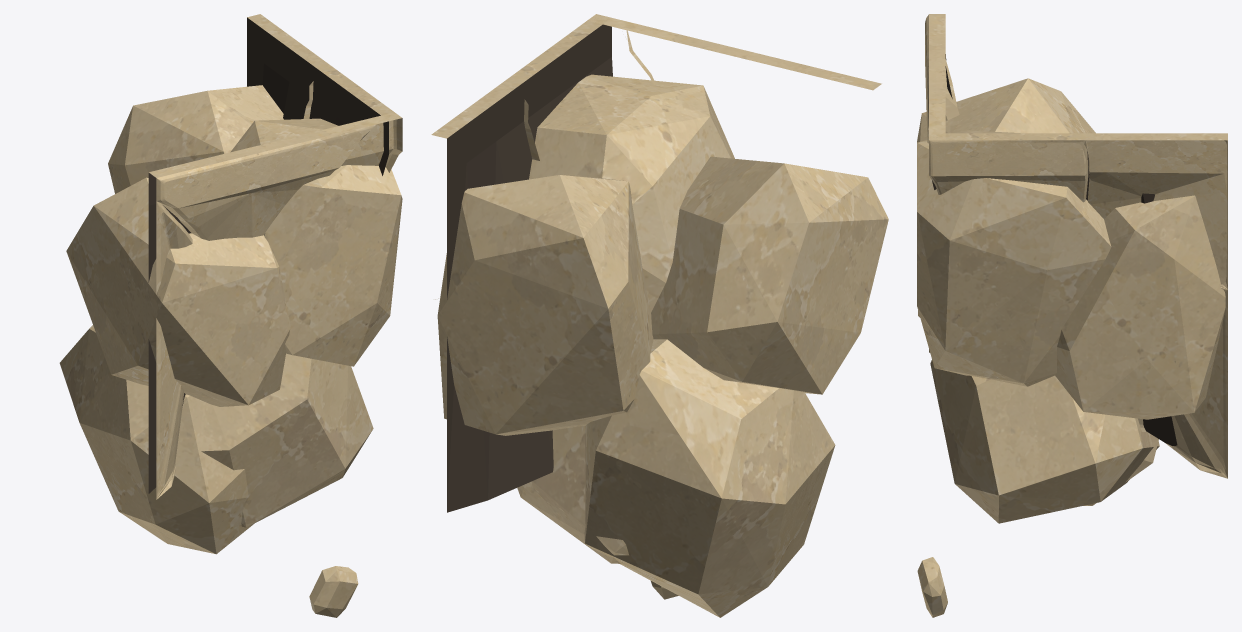
The model's file is ground_bottom_corner_01.glb.
3 renders of one model, left to right at view 1: azimuth 30°, elevation 25°; view 2: azimuth 150°, elevation 25°; view 3: azimuth 270°, elevation 25°, orthographic. The views are drawn at different scales.
Parts seen in each view (by area): view 1: GroundBottomCorner01_Body; view 2: GroundBottomCorner01_Body; view 3: GroundBottomCorner01_Body.
Part boxes in pixels (x1,y1,x2,y2): GroundBottomCorner01_Body: (59,14,402,617); GroundBottomCorner01_Body: (431,14,888,617); GroundBottomCorner01_Body: (917,14,1227,617).
Bounding box in the file's own units: 1.04 × 1.89 × 1.04.
Materials: 9 (8 with a texture image).
